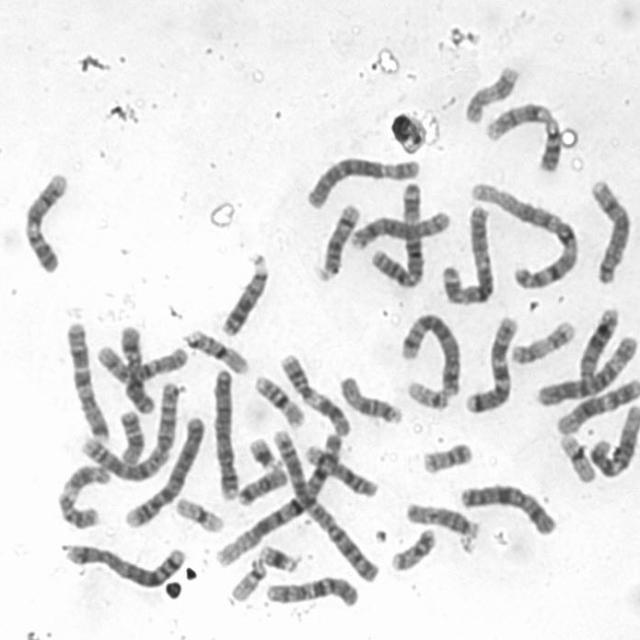A1: (211, 429, 345, 569), (466, 177, 582, 293)
A2: (269, 424, 381, 585), (76, 376, 182, 481)
A3: (368, 177, 428, 291), (440, 201, 498, 307)
B4: (121, 411, 206, 531), (208, 364, 240, 501)
B5: (61, 539, 190, 591), (395, 309, 464, 399)
C10: (92, 341, 189, 387), (262, 572, 361, 609)
C11: (275, 349, 354, 438), (54, 460, 112, 530)
C12: (552, 372, 639, 436), (587, 402, 639, 479)
C6: (531, 330, 639, 408), (302, 152, 422, 211)
C7: (61, 316, 111, 444), (461, 312, 518, 416)
C8: (586, 172, 634, 287), (346, 205, 452, 252)
C9: (481, 99, 564, 172), (19, 167, 73, 274)
D13: (216, 249, 271, 338), (576, 304, 622, 382)
D14: (300, 440, 380, 500), (314, 198, 362, 283)
D15: (336, 372, 404, 426), (402, 497, 482, 539)
E16: (182, 324, 252, 376), (250, 369, 308, 430)
E17: (461, 61, 522, 125), (507, 316, 578, 366)
E18: (233, 461, 289, 508), (115, 406, 147, 466)
F19: (556, 428, 599, 485), (172, 492, 228, 535)
F20: (387, 524, 438, 573), (418, 437, 476, 475)
G21: (254, 537, 302, 574), (245, 430, 284, 471)
G22: (226, 555, 269, 605), (402, 377, 452, 411)
X: (456, 478, 560, 538), (118, 322, 158, 415)
